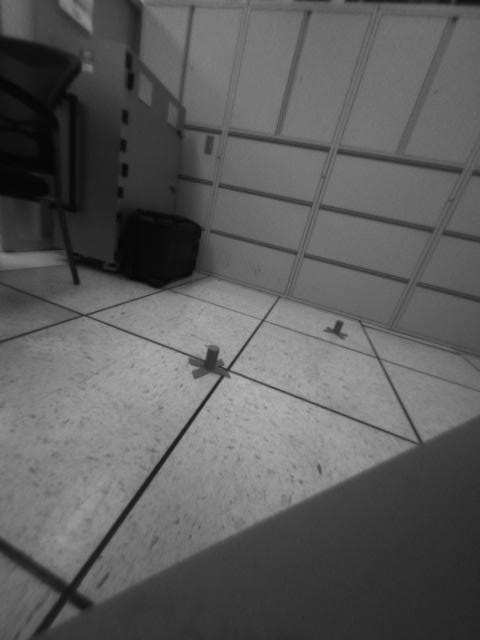X: (186, 344, 236, 382), (322, 319, 353, 342)
